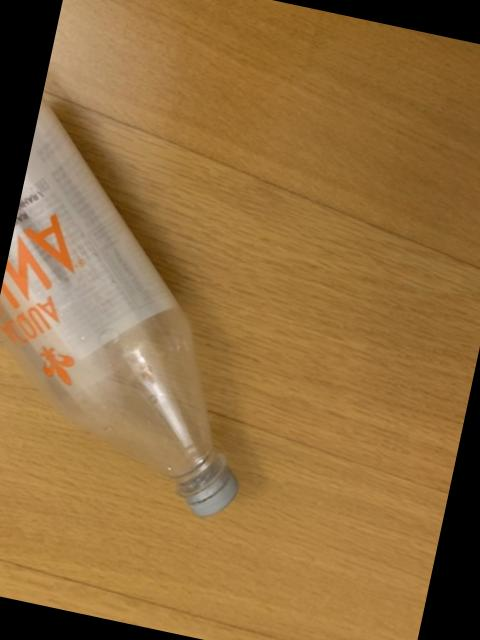plastic: (0, 103, 235, 517)
